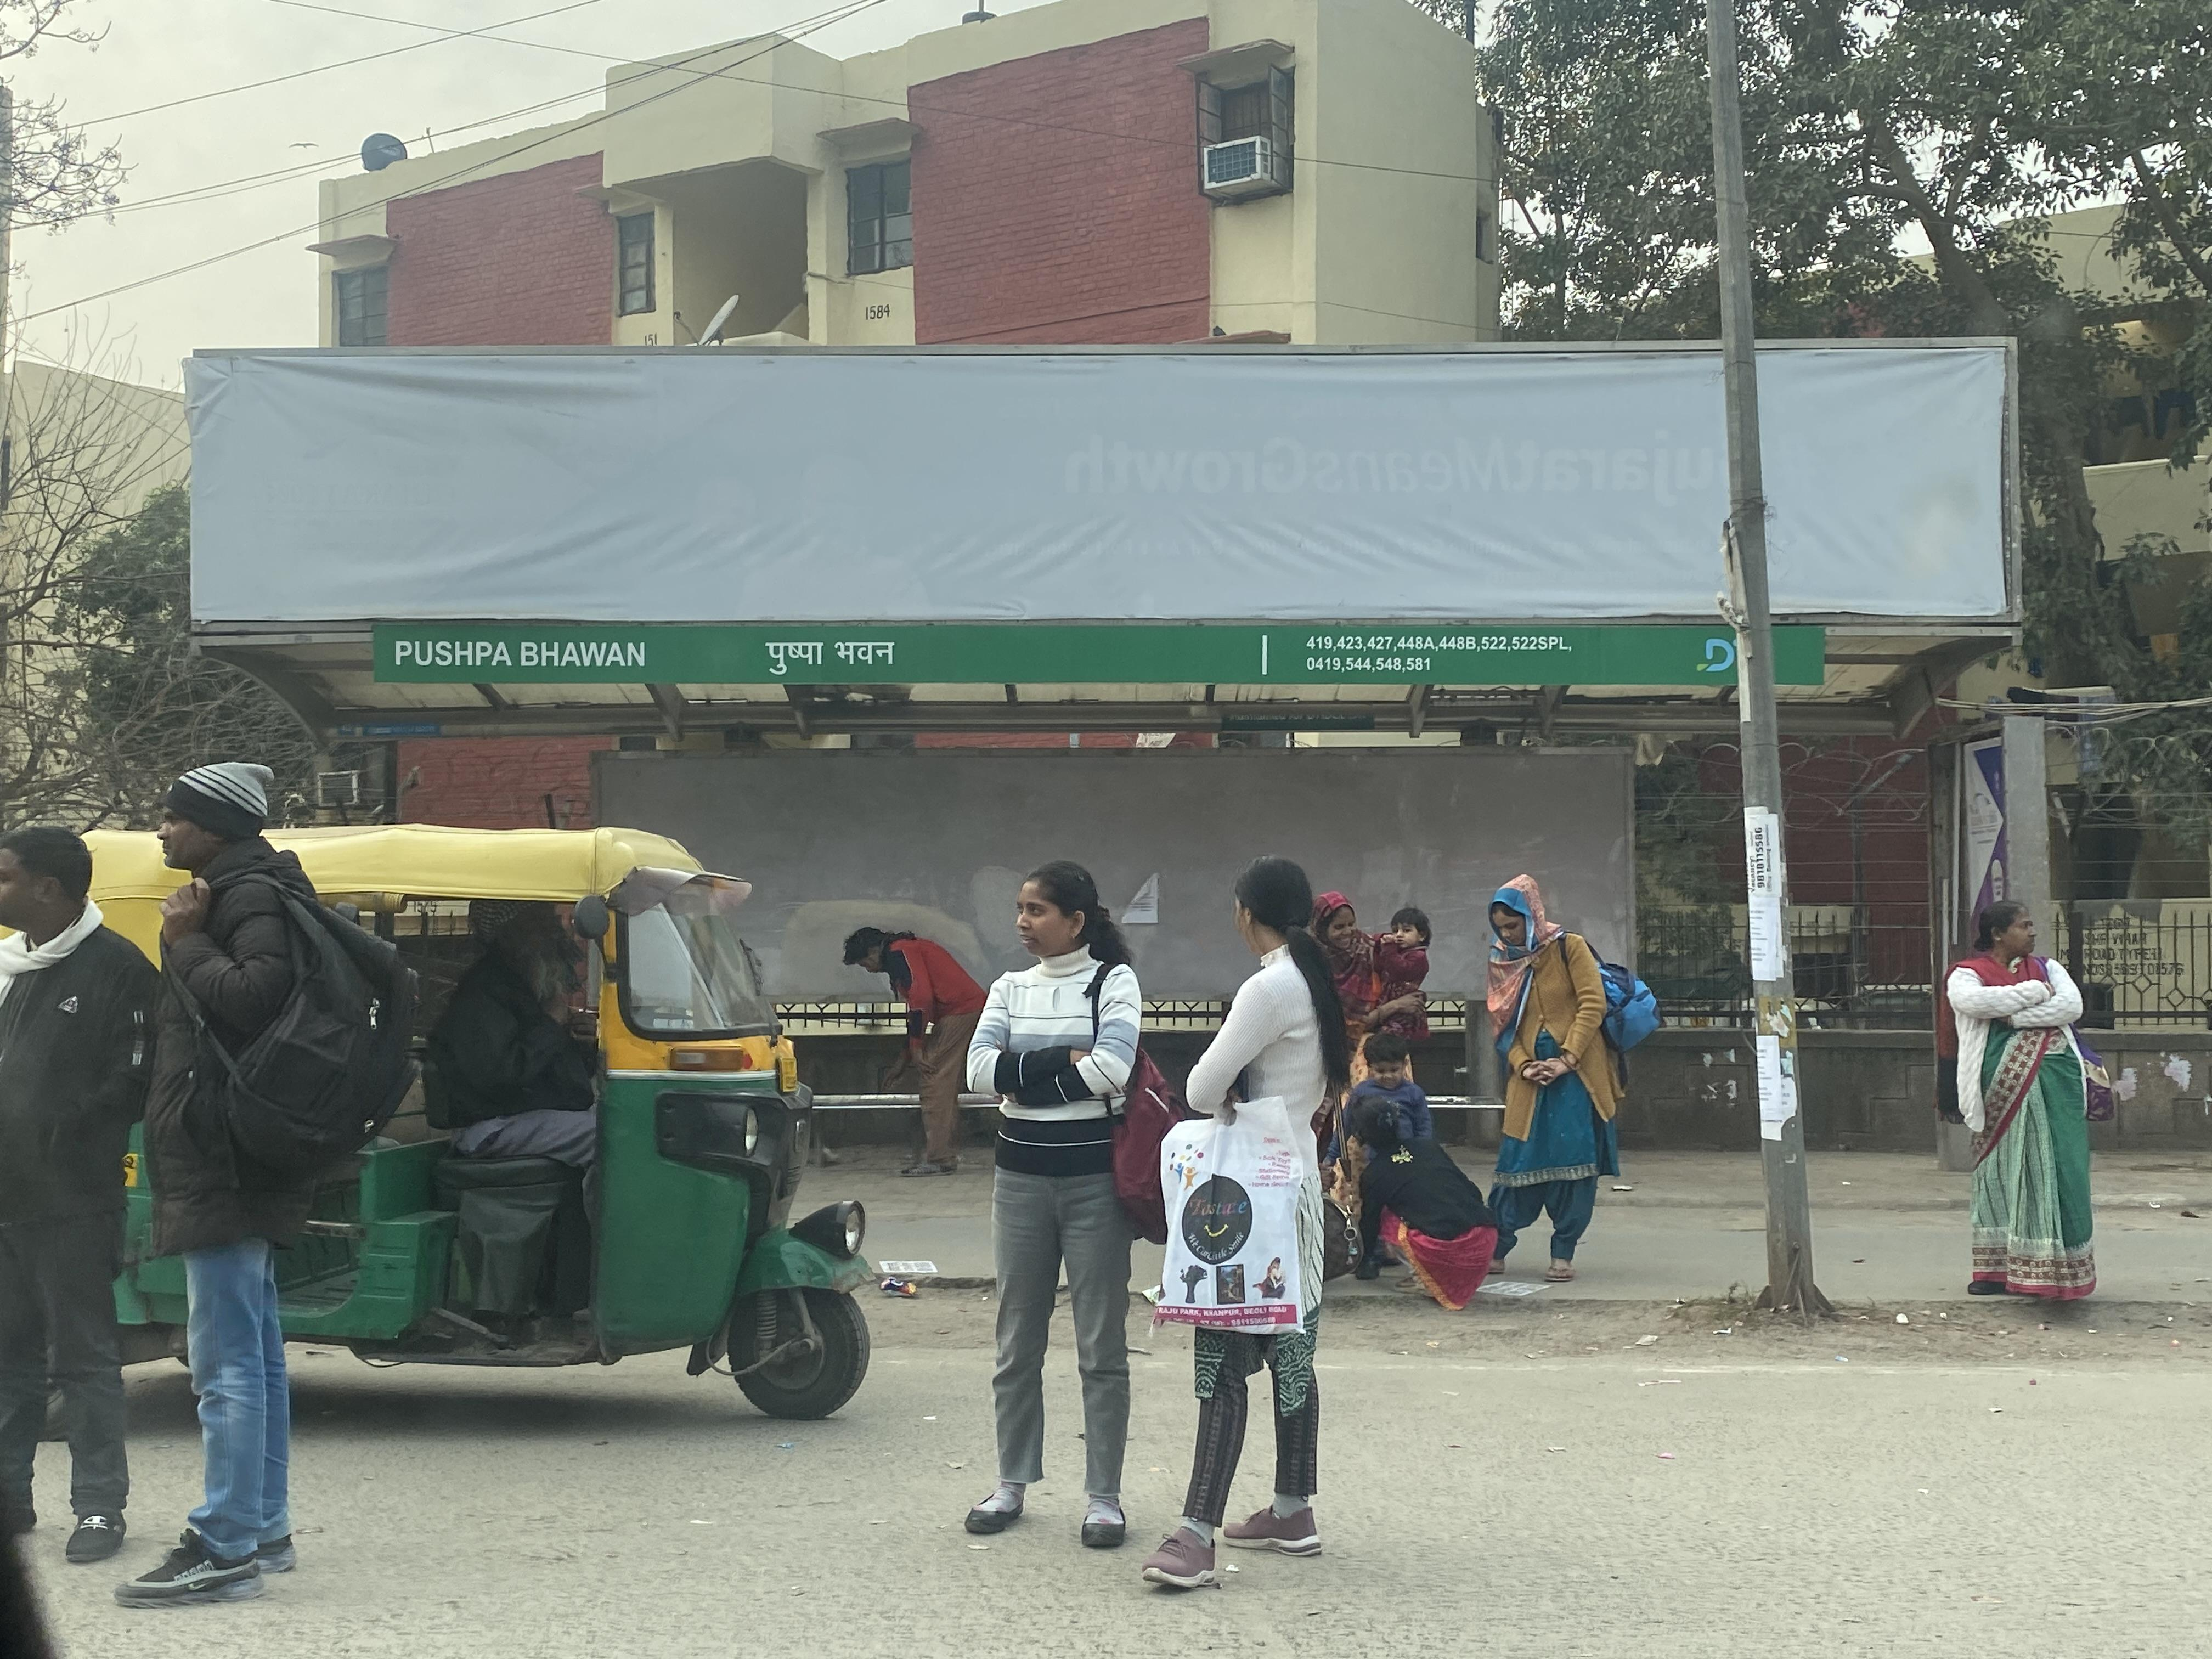Bus-stop-board: (291, 608, 1848, 697)
